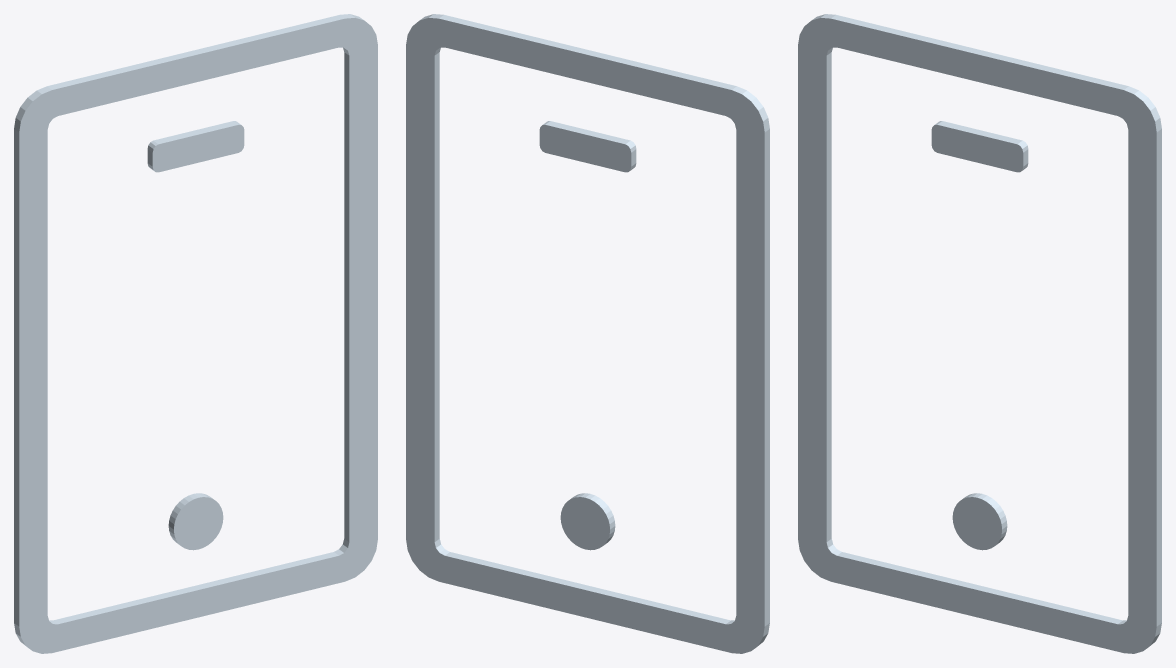
Rendered from Phone_3D_Icon_03.fbx.
The picture shows the model from 3 angles, left to right: view 1: azimuth 30°, elevation 25°; view 2: azimuth 150°, elevation 25°; view 3: azimuth 330°, elevation 25°; orthographic projection.
Visible parts, largest first — view 1: Phone_3D_Icon_03; view 2: Phone_3D_Icon_03; view 3: Phone_3D_Icon_03.
Part boxes in pixels (x1,y1,x2,y2): Phone_3D_Icon_03: [14, 14, 377, 653]; Phone_3D_Icon_03: [406, 14, 769, 653]; Phone_3D_Icon_03: [798, 14, 1161, 653].
Size of the model in its own units: 79.2 by 119 by 2.
